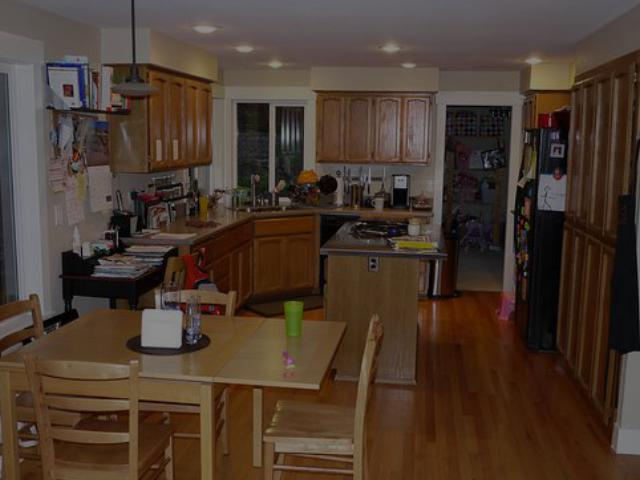Lavaplatos: (221, 169, 307, 218)
